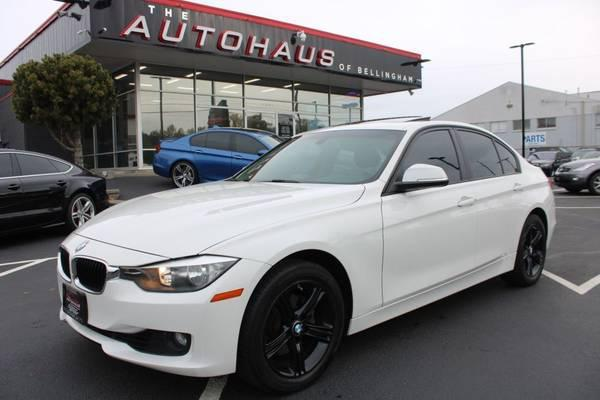Front_Bumper: (54, 260, 269, 375)
Front_Fender: (195, 179, 384, 335)
Front_Left_Door: (384, 181, 478, 315)
Front_Left_Window: (383, 126, 468, 193)
Front_Windshield: (229, 129, 405, 186)
Grille: (57, 246, 121, 294)
Hood: (61, 180, 362, 266)
Left_Headlight: (115, 256, 241, 297)
Rear_Fender: (523, 172, 555, 243)
Rear_Left_Door: (472, 175, 534, 282)
Rear_Left_Window: (456, 127, 521, 180)
Roof: (292, 119, 543, 191)
Wheel: (248, 258, 347, 389), (518, 213, 549, 279)
